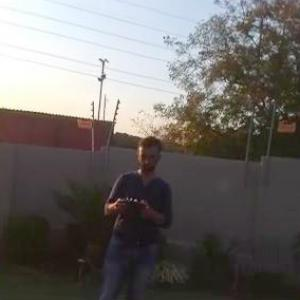follow: (95, 129, 185, 299)
